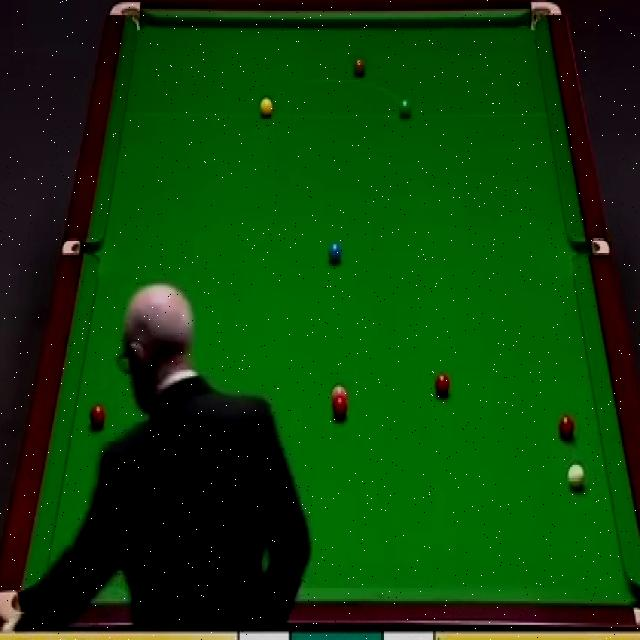blue-ball: (328, 243, 341, 265)
brown-ball: (351, 58, 367, 78)
green-ball: (397, 96, 412, 119)
pink-ball: (331, 385, 344, 406)
red-ball: (559, 414, 574, 442), (88, 406, 106, 429), (434, 373, 450, 397), (333, 401, 347, 424)
white-ball: (567, 462, 586, 493)
yellow-ball: (259, 96, 273, 119)
